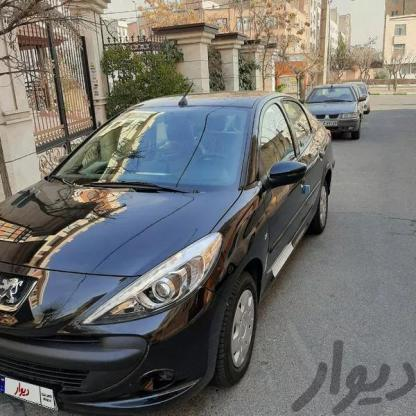Car: (0, 91, 344, 416), (304, 82, 363, 140), (349, 82, 372, 118)
